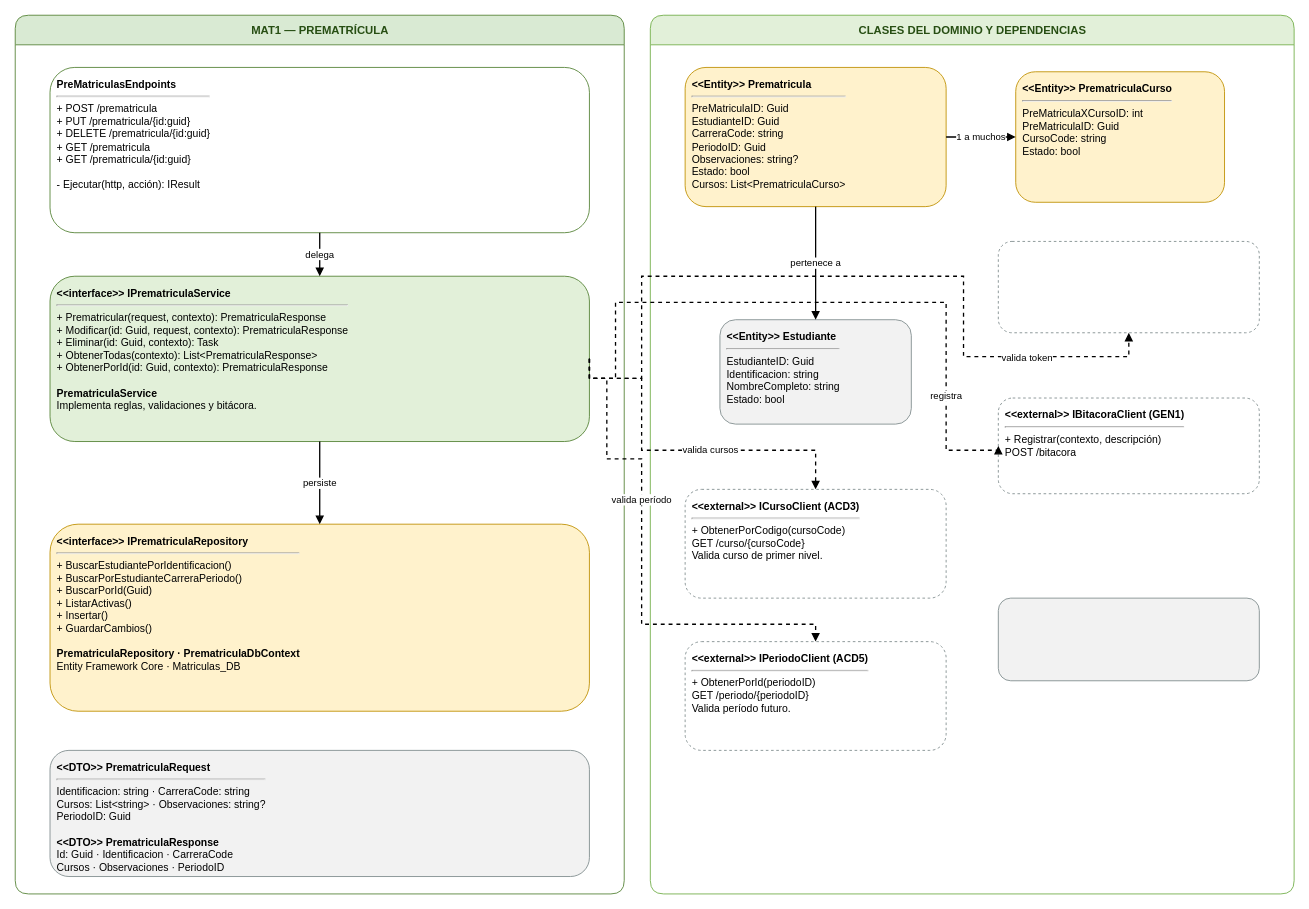
The diagram is 1309 pixels wide and 909 high, and some of its shapes have lost their labels. Each missing label, with the centre of its shape:
<<external>> IAuthClient (USR5) + Validate(token): bool POST /validate: the point at 1128,287
ContextoUsuario UsuarioId: Guid Token: string: the point at 1128,639
